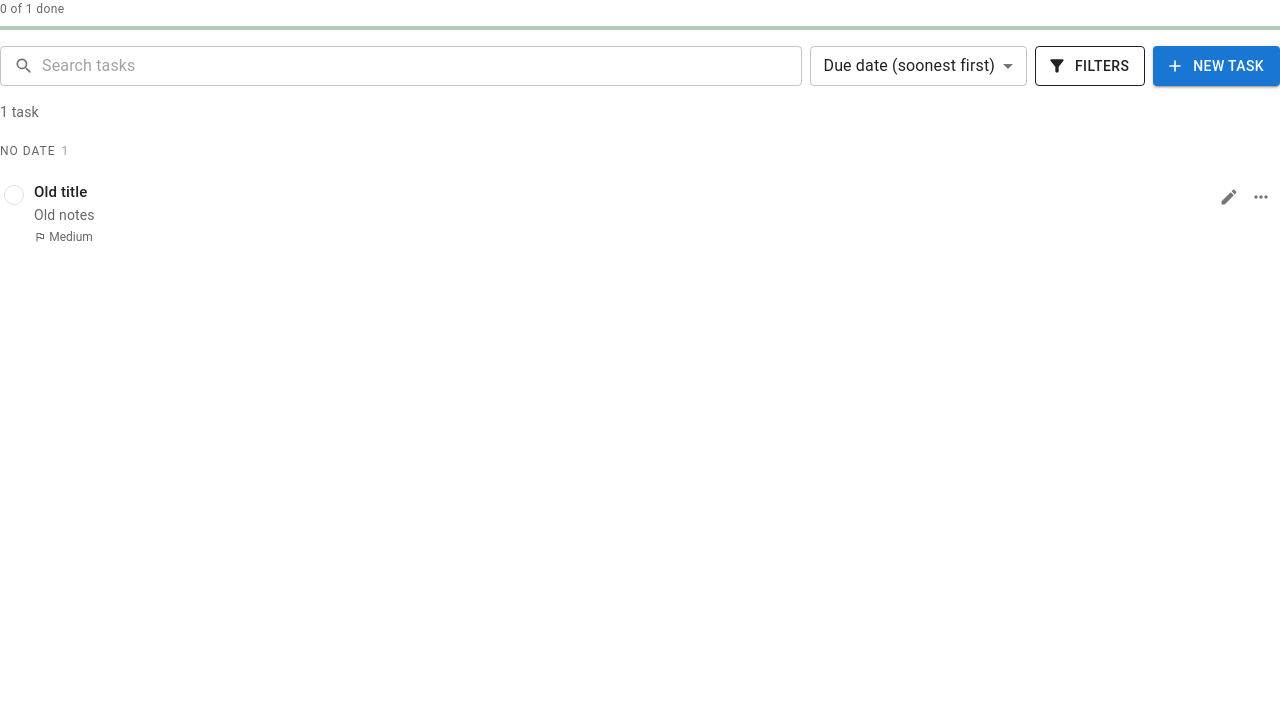
TaskDashboard › edits an existing task and keeps its identity
Click the button named "Edit \"Old title\"": x=1229, y=197 left=1214, top=182, right=1244, bottom=212
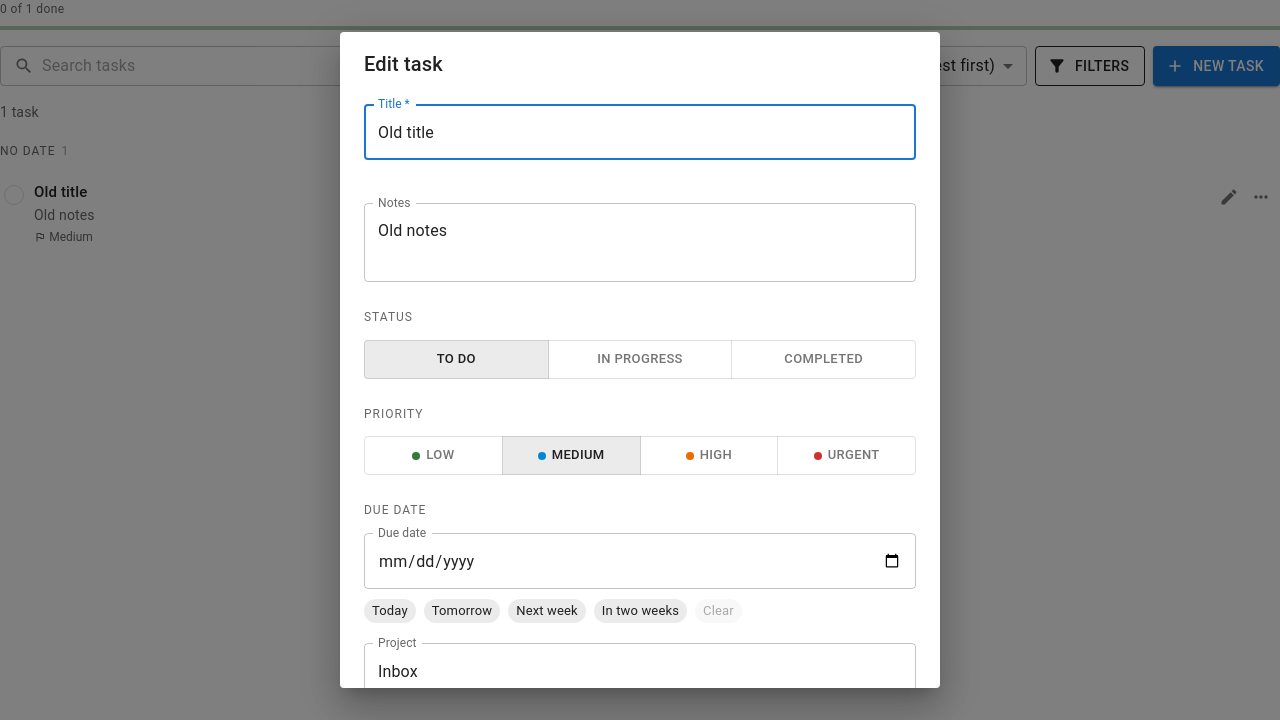
Replace the text in the field labelled "Title *" with "New title": x=640, y=132 left=364, top=104, right=916, bottom=160
(page scrolled)
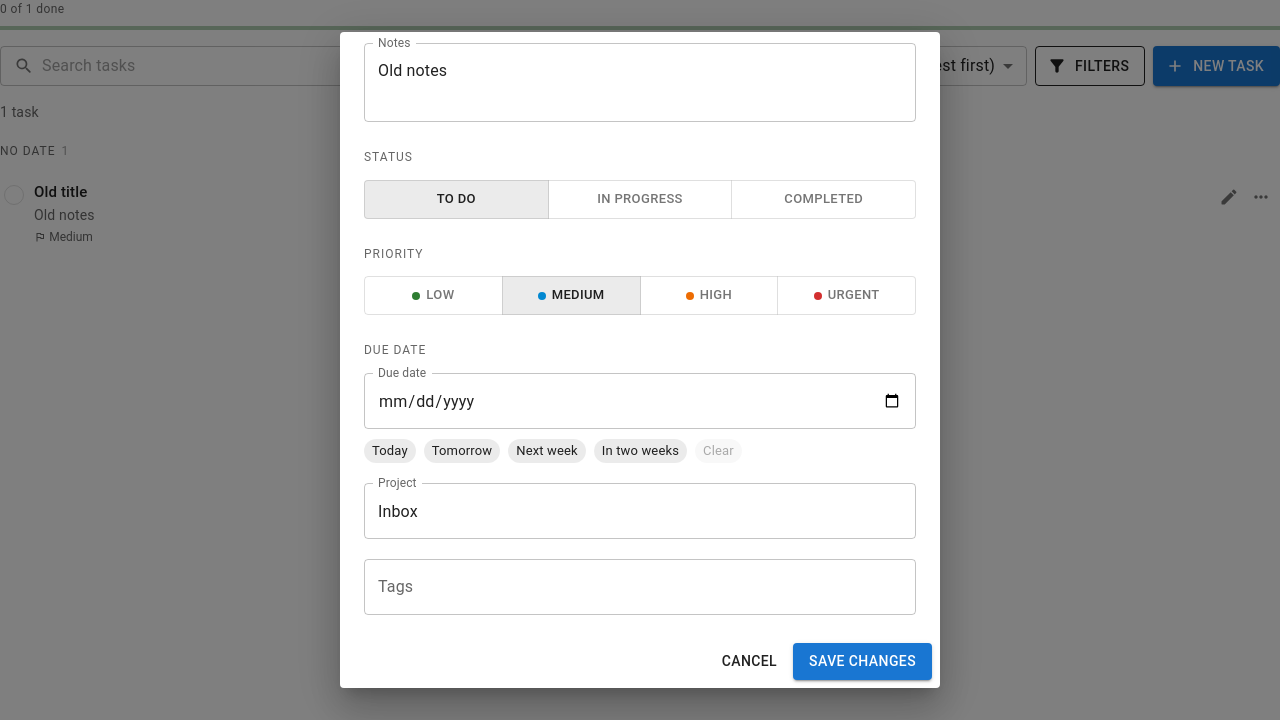
Click the button "Save changes": x=863, y=661 left=793, top=643, right=932, bottom=680
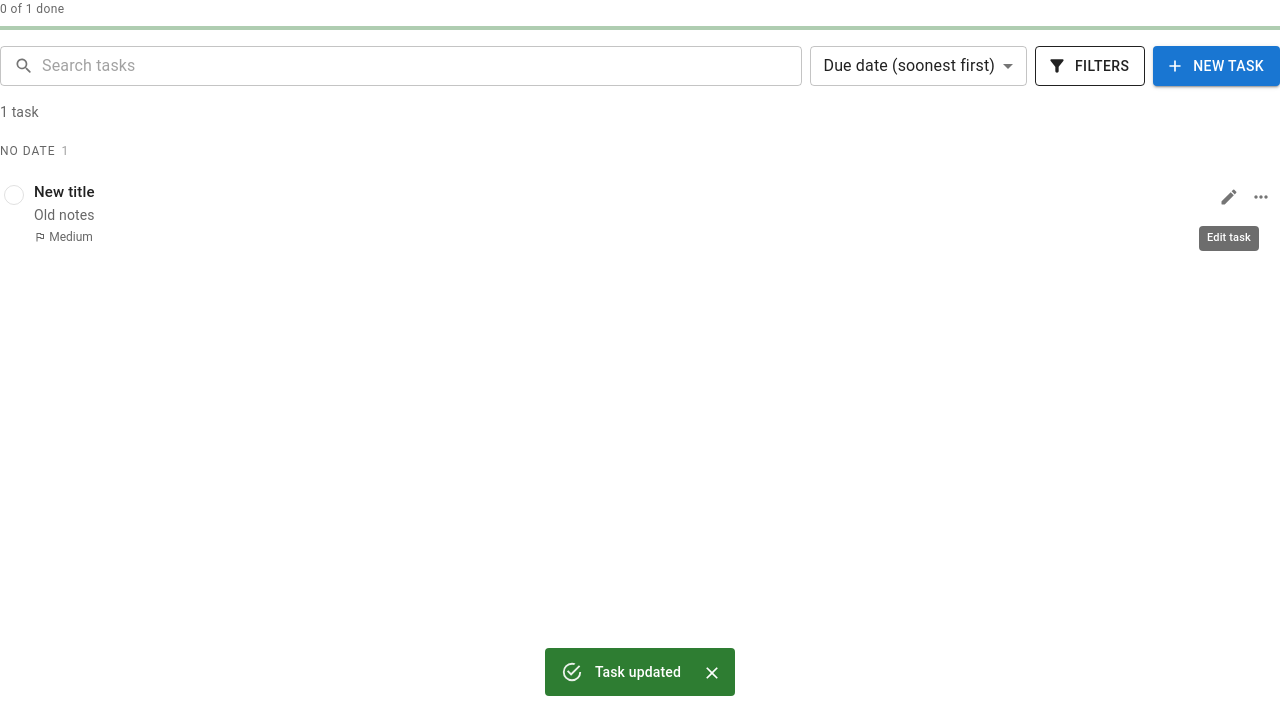
Expected: the text "Old notes" is shown, left=34, top=207, right=95, bottom=223
Result: the text "New title" is shown at left=34, top=183, right=95, bottom=201
